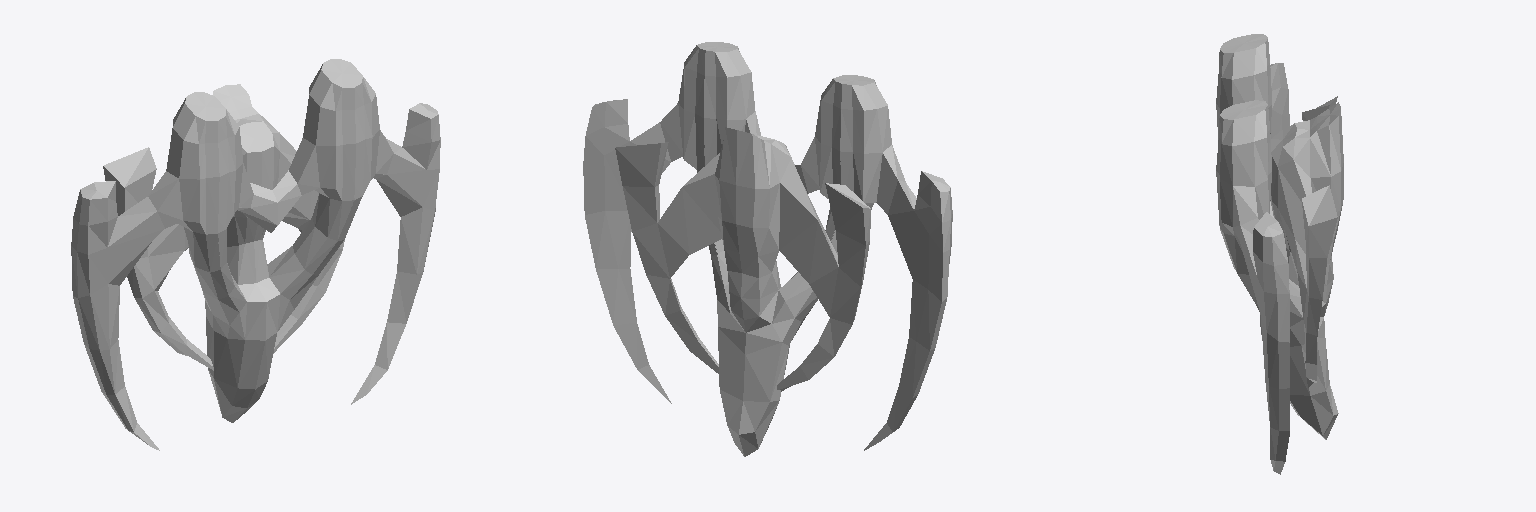
The model's file is alien4.obj.
3 renders of one model, left to right at view 1: azimuth 30°, elevation 25°; view 2: azimuth 150°, elevation 25°; view 3: azimuth 270°, elevation 25°, orthographic.
Parts seen in each view (by area): view 1: al-09; view 2: al-09; view 3: al-09.
Boxes of the visible parts, <box> form: al-09: <box>71,59,440,450</box>; al-09: <box>583,42,952,456</box>; al-09: <box>1216,34,1343,474</box>.
Size of the model in its own units: 15.9 by 15.53 by 4.88.